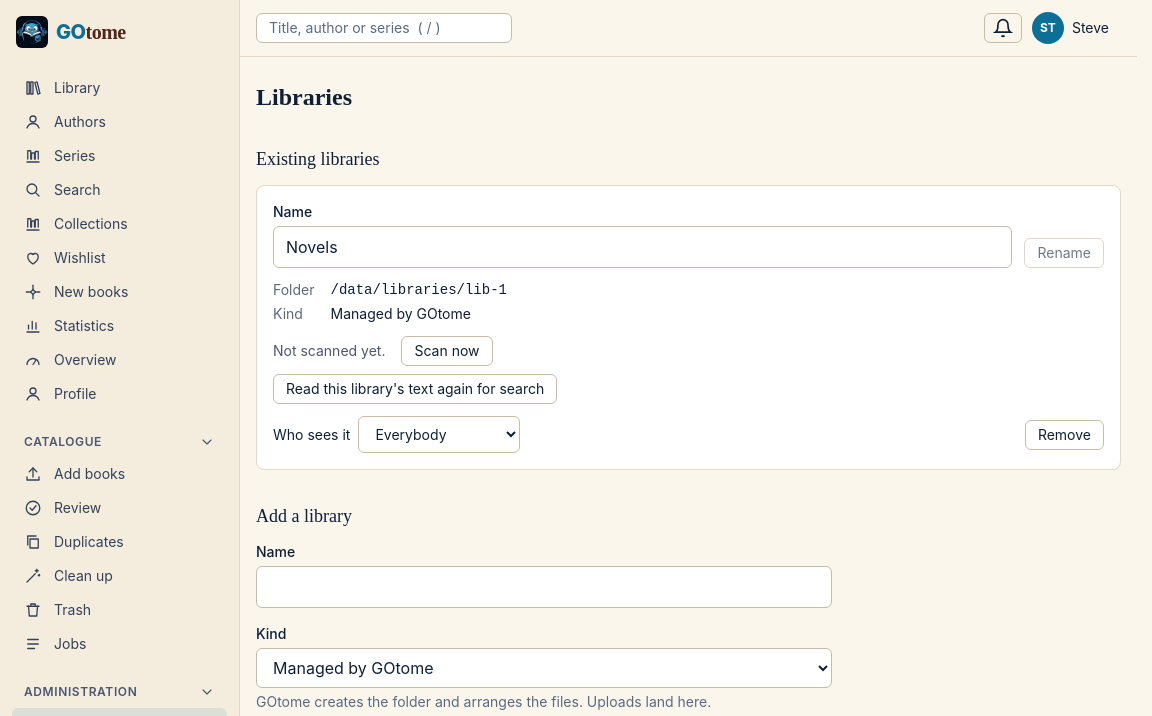
Test case: libraries › lets an administrator scan a library and says what the scan found
expect the message reads "Not scanned yet.": met, box [273,342,385,359]
Click the button "Scan now" at (447, 351), box [401,336,492,366]
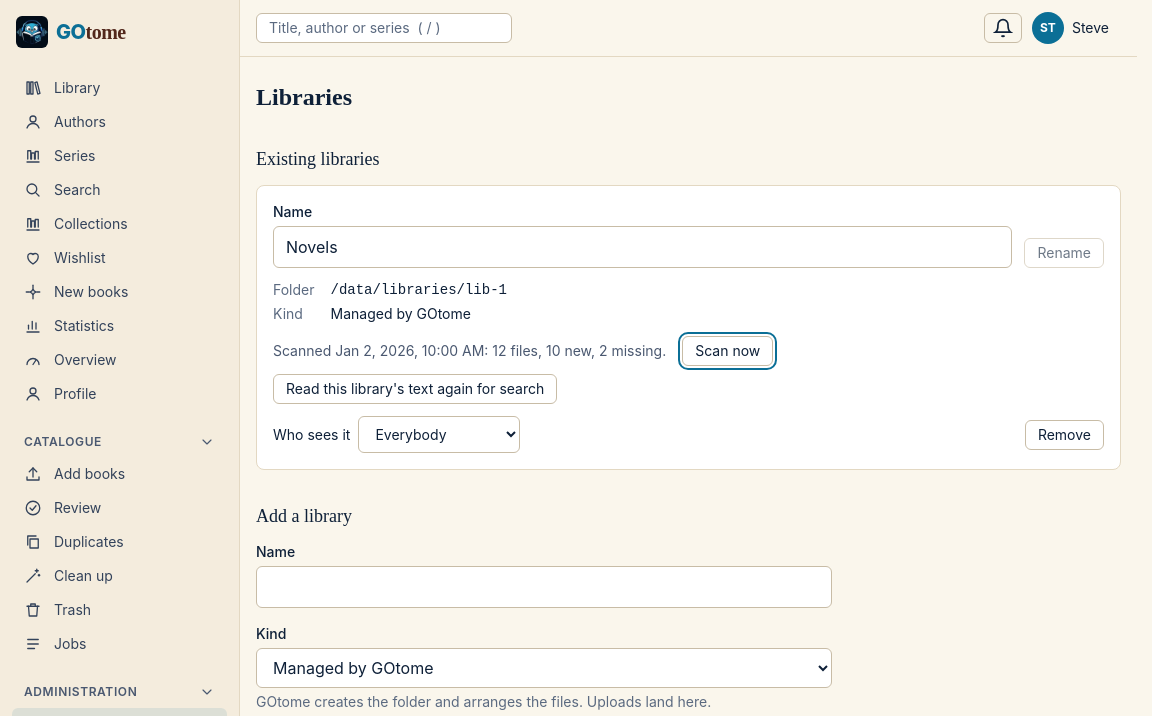
expect the message reads "Scanned Jan 2, 2026, 10:00 AM: 12 files, 10 new, 2 missing.": met, box [273,342,666,359]
